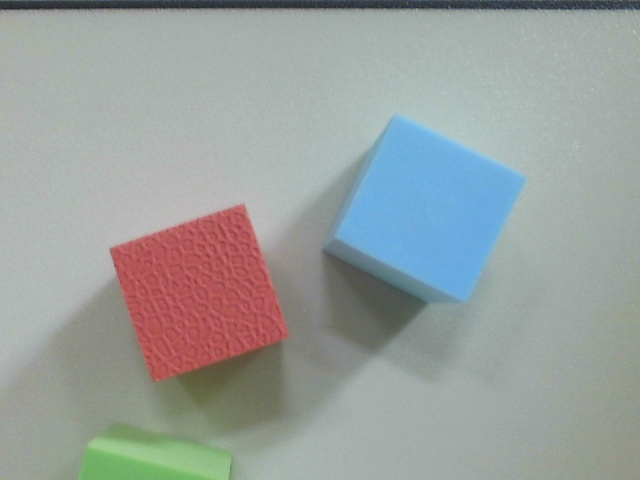greencube: (50, 413, 255, 480)
